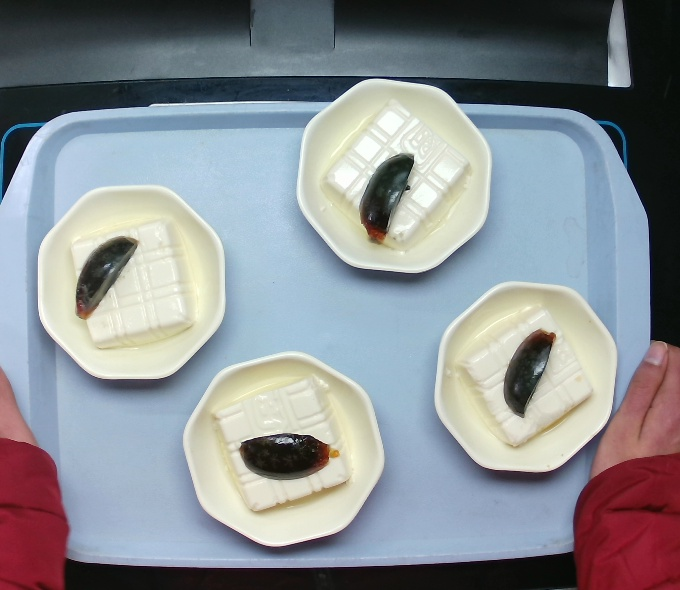wcq-PiDanDouFu: (318, 93, 471, 252), (206, 371, 352, 516), (462, 305, 600, 451), (66, 214, 193, 354)
